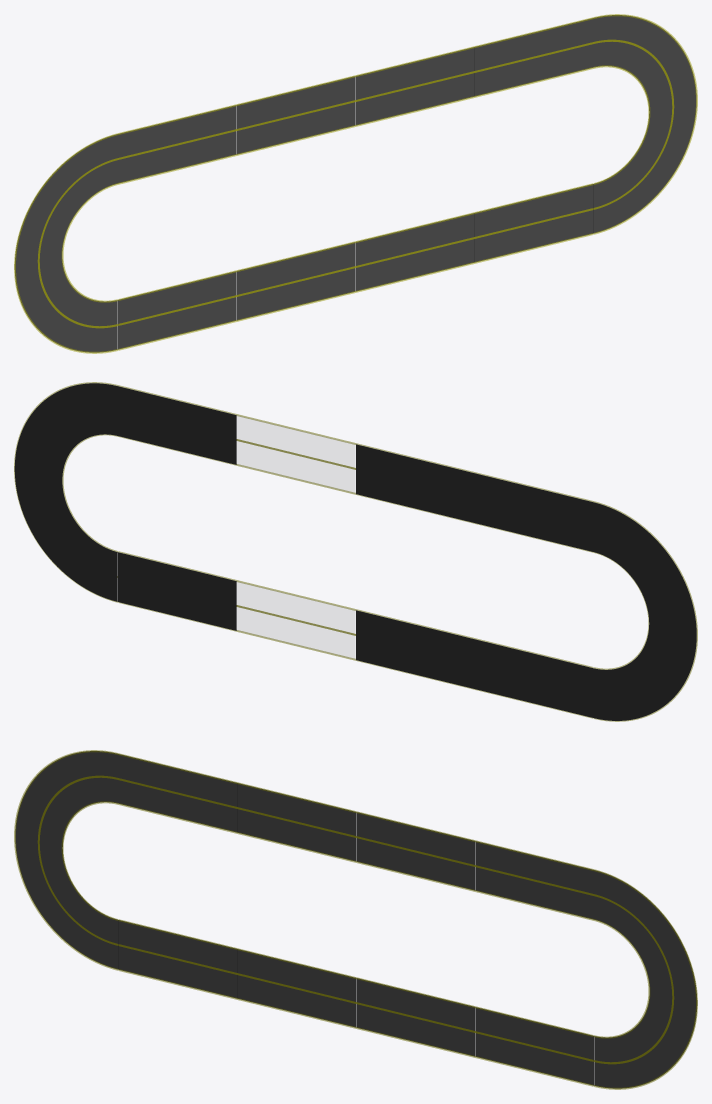
The model's file is loop_road.obj.
3 renders of one model, top to bottom at view 1: azimuth 30°, elevation 25°; view 2: azimuth 150°, elevation 25°; view 3: azimuth 330°, elevation 25°, orthographic.
Size of the model in its own units: 86.25 by 26.25 by 0.05.
